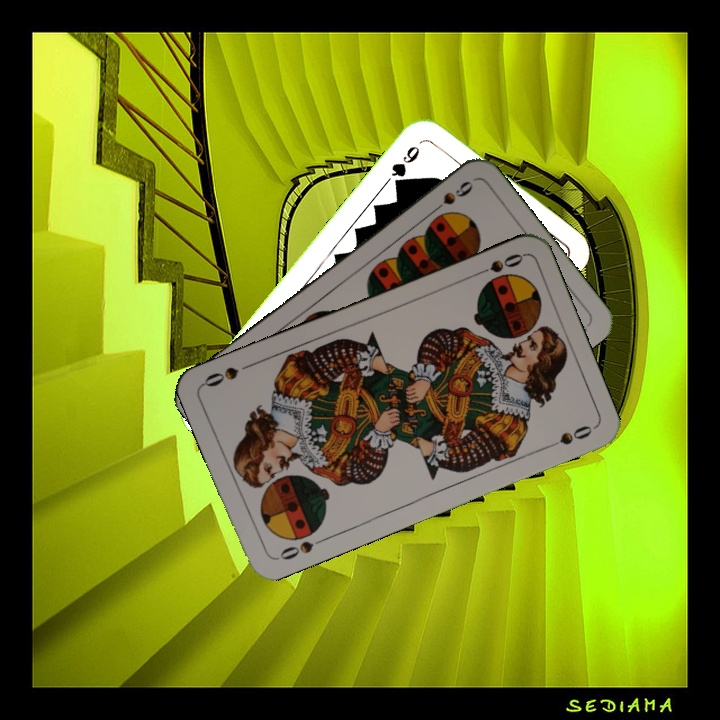G9: (387, 142, 423, 190)
S9: (425, 176, 476, 218)
SO: (469, 249, 526, 279), (271, 534, 328, 563)
